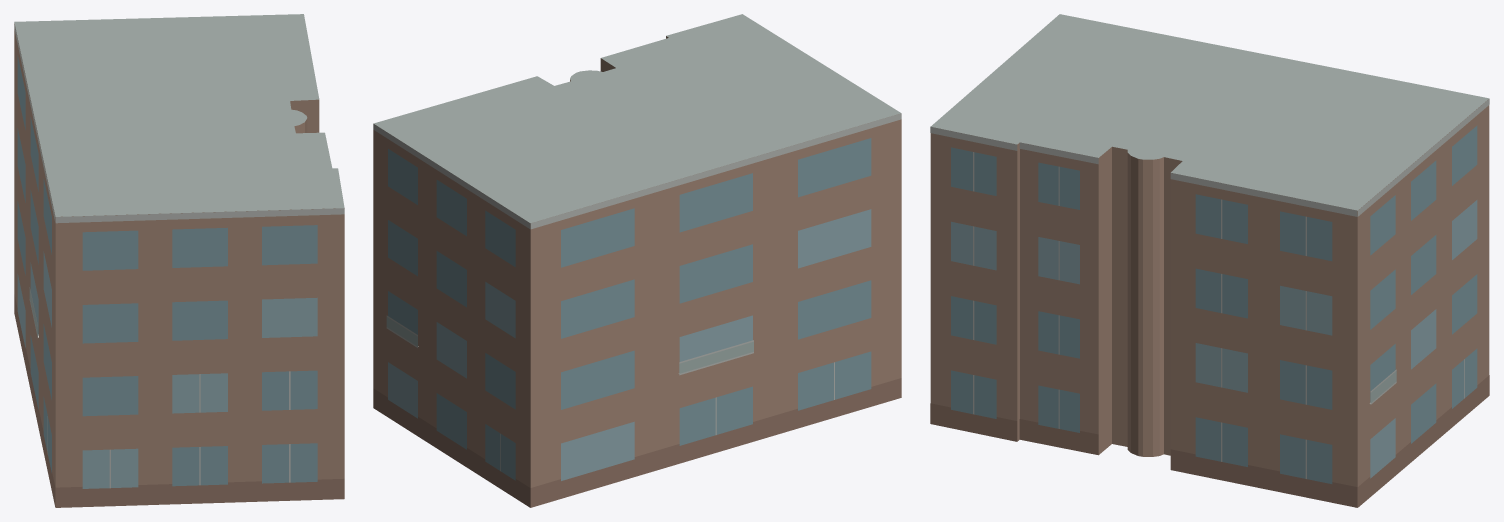
File: survey-upis-32826974.glb
The picture shows the model from 3 angles, left to right: view 1: azimuth 30°, elevation 25°; view 2: azimuth 150°, elevation 25°; view 3: azimuth 270°, elevation 25°; orthographic projection. The views are drawn at different scales.
Visible parts, largest first — view 1: survey-upis-32826974.tmp; view 2: survey-upis-32826974.tmp; view 3: survey-upis-32826974.tmp.
Part boxes in pixels (<box>): survey-upis-32826974.tmp: <box>14,14,344,507</box>; survey-upis-32826974.tmp: <box>373,14,901,507</box>; survey-upis-32826974.tmp: <box>930,14,1489,507</box>.
Bounding box in the file's own units: 16.03 × 11.3 × 19.27.
